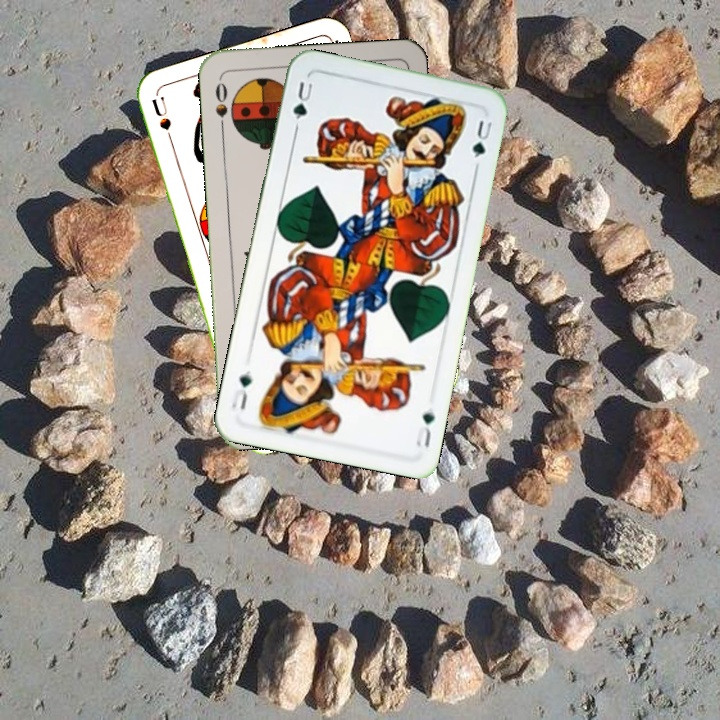GU: (289, 78, 316, 132), (412, 403, 438, 451)
SO: (211, 79, 230, 134)
SU: (147, 93, 178, 152)
